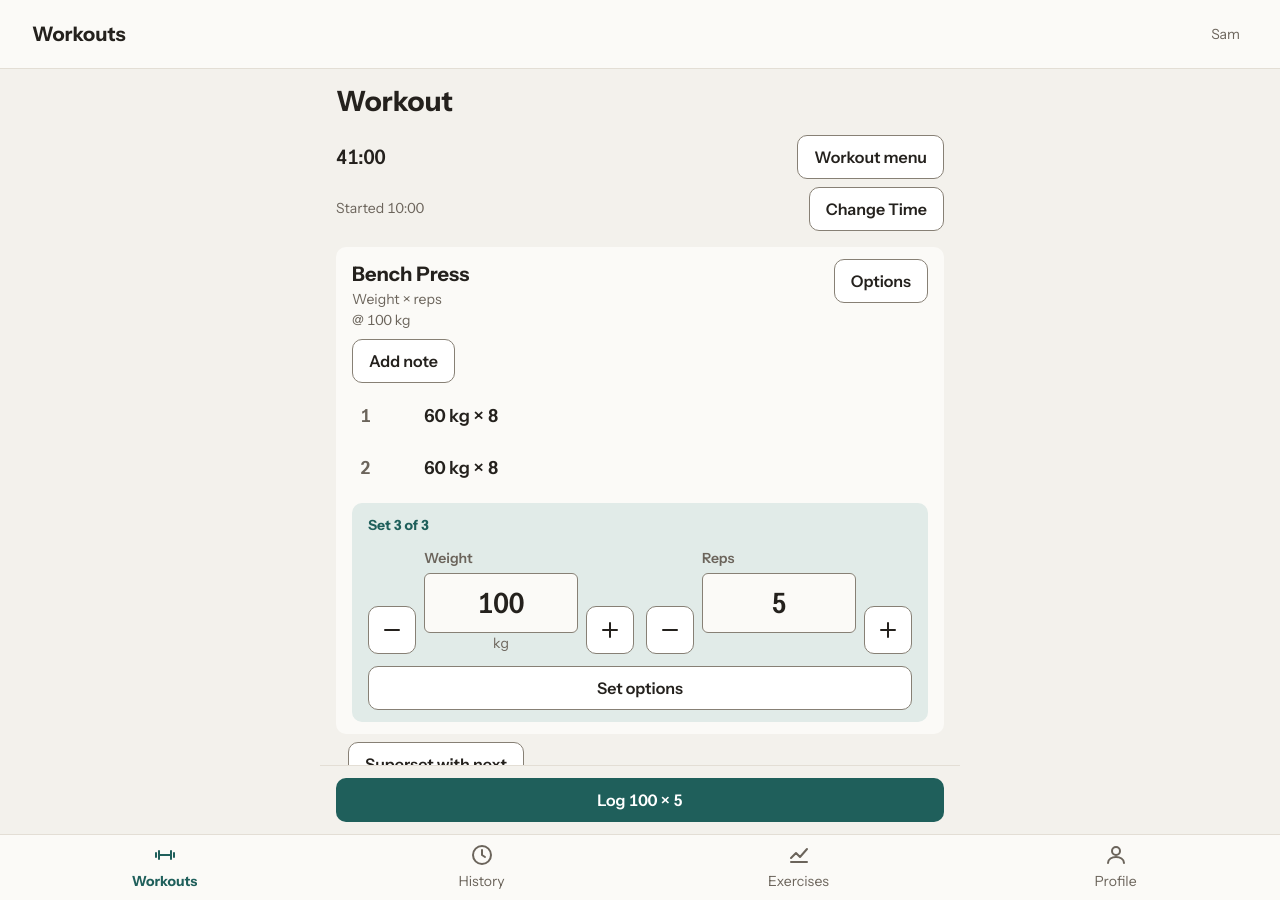
it: 17.2 AC2 — End workout early: stats, flag, list, then the note › orders them and keeps the labels
The image size is (1280, 900).
Expected: the heading "Workout" is shown, [336,84,453,118]
Click the button "Workout menu". click: (871, 157)
box: [797,135,944,179]
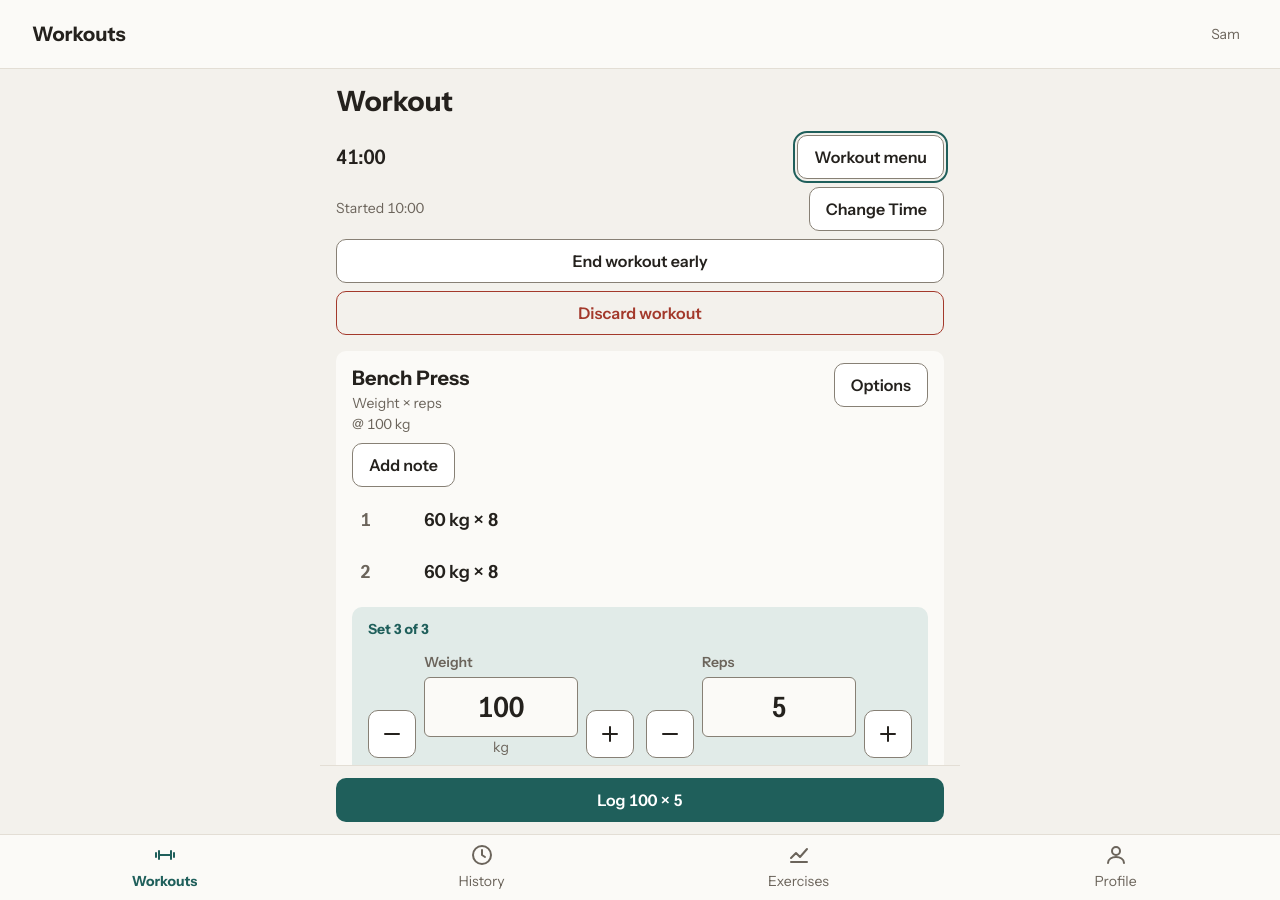
Click the button "End workout early". click: (640, 261)
box: [336,239,944,283]
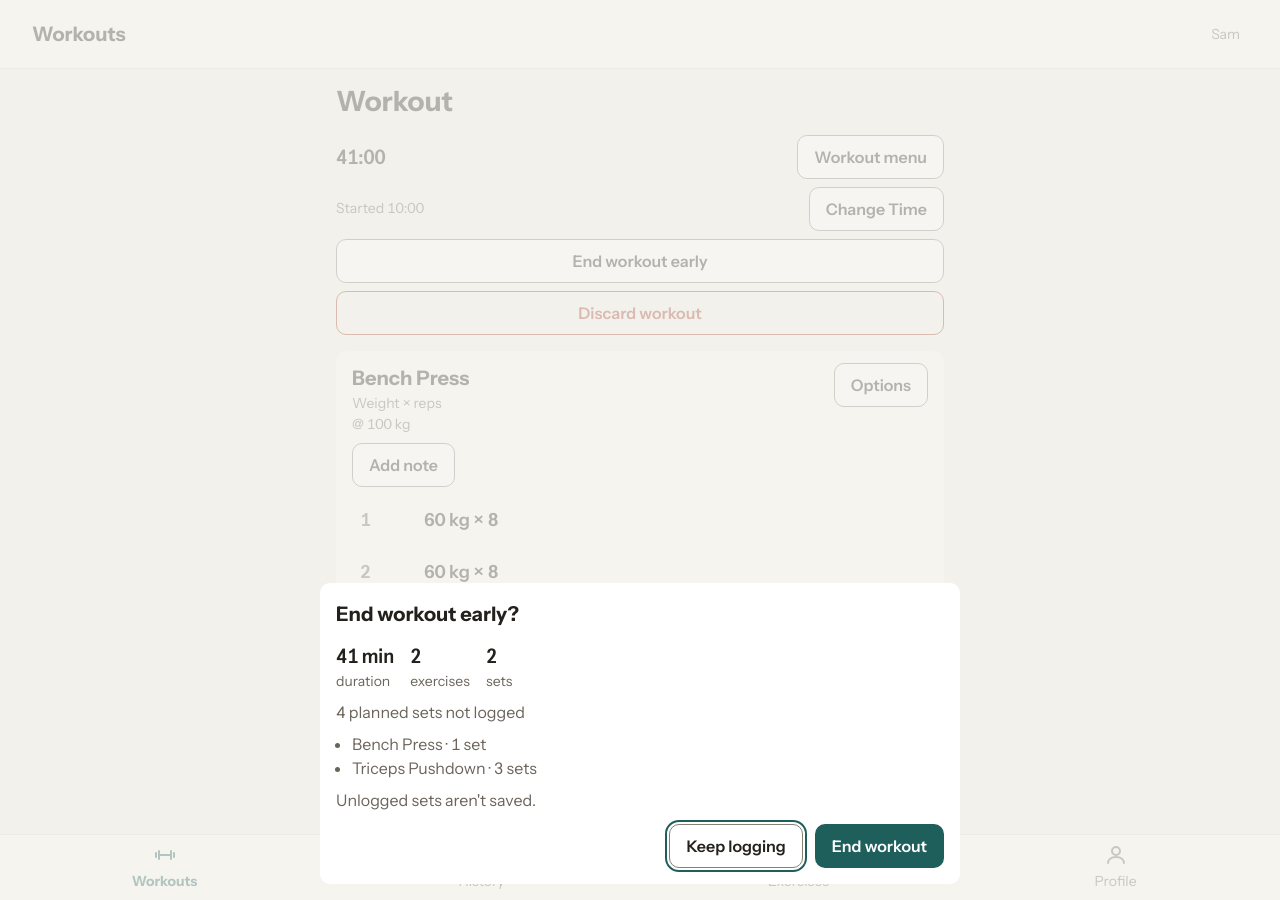
Now the button "End workout" is shown, box [815,824,944,868]
Now the button "Keep logging" is shown, box [669,824,803,868]
